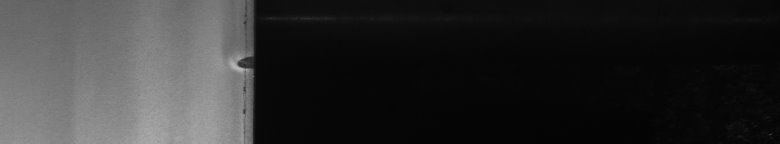hb: (220, 48, 244, 116)
